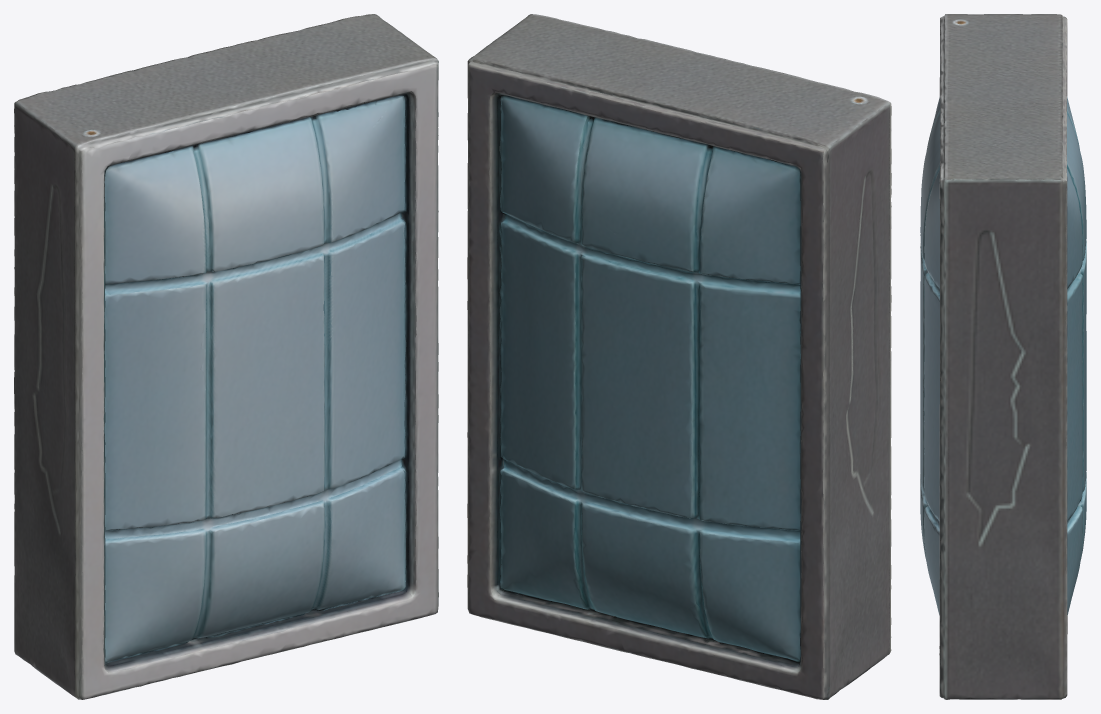
File: DDP_유리커튼월.glb
3 views of the same model, side by side, from view 1: azimuth 30°, elevation 25°; view 2: azimuth 150°, elevation 25°; view 3: azimuth 270°, elevation 25° (orthographic). The views are drawn at different scales.
Visible parts, largest first — view 1: texture_mapping; view 2: texture_mapping; view 3: texture_mapping.
Boxes of the visible parts, x1=… form: texture_mapping: x1=14, y1=14, x2=438, y2=699; texture_mapping: x1=467, y1=14, x2=891, y2=699; texture_mapping: x1=920, y1=14, x2=1086, y2=699.
Size of the model in its own units: 0.6834 by 1 by 0.2873.
1 material, 1 textured.
